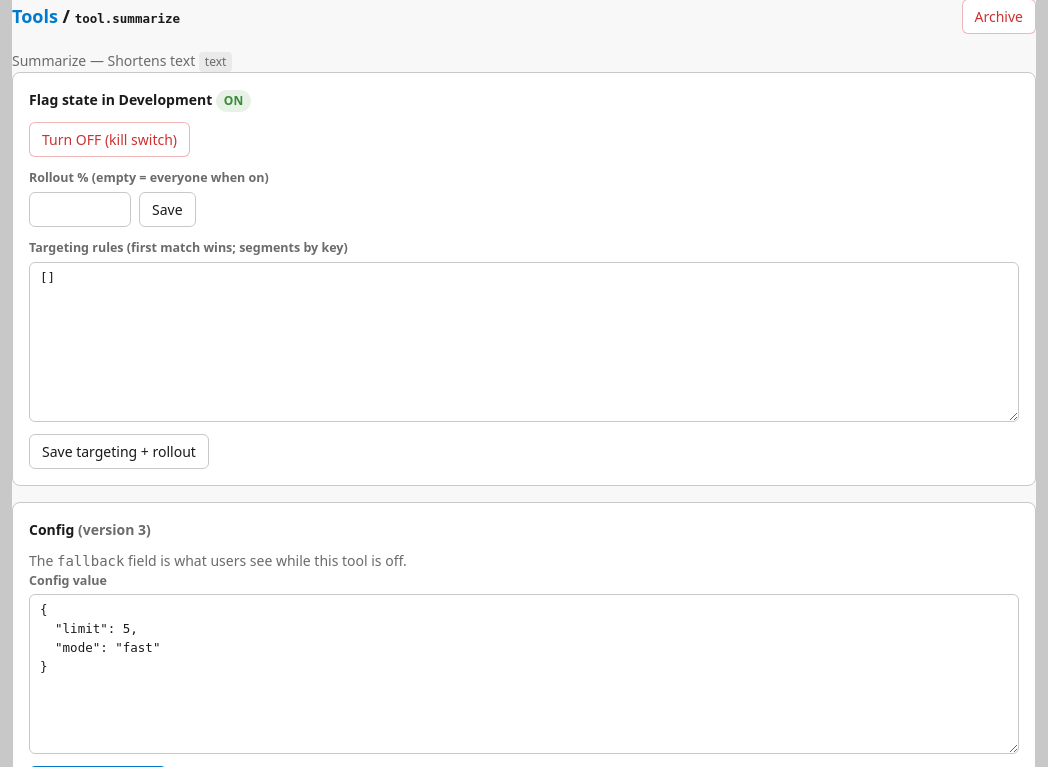
config panel › rejects a non-object config
Expected: the heading "Flag state in Development ON" is shown, [29,90,251,112]
Replace the text in the text box labelled "Config value" with "[1,2,3]" at [524, 674], box [29,594,1019,754]
(page scrolled)
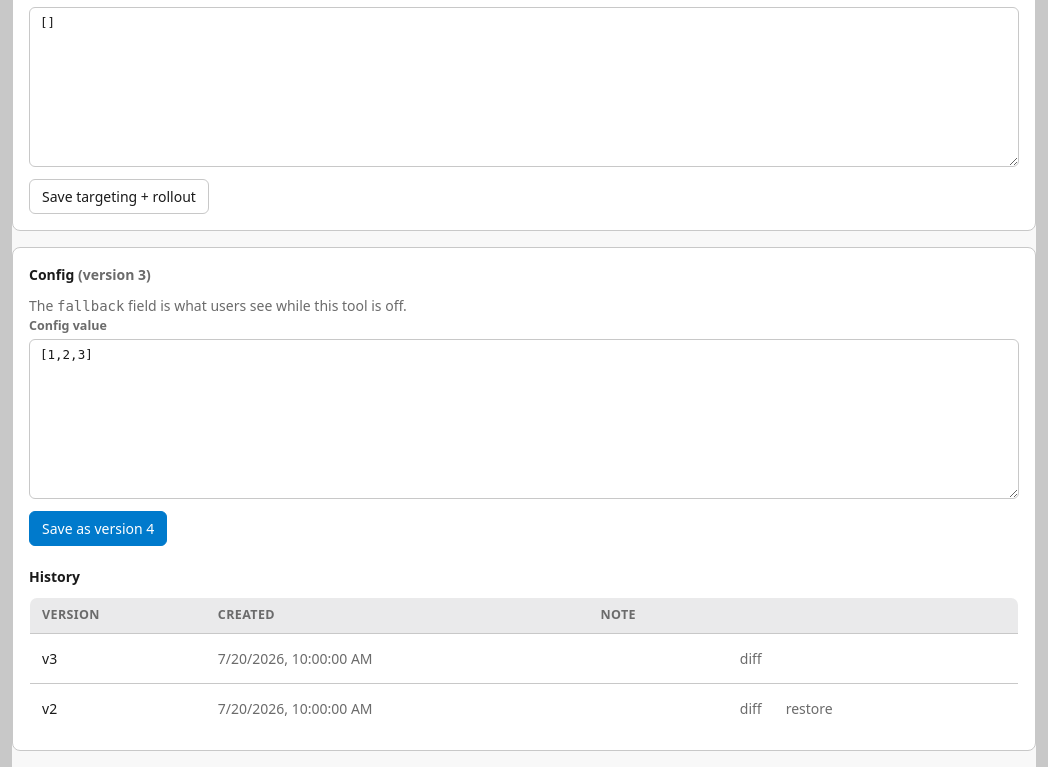
Click the button "Save as version 4" at [98, 529], box [29,511,167,546]
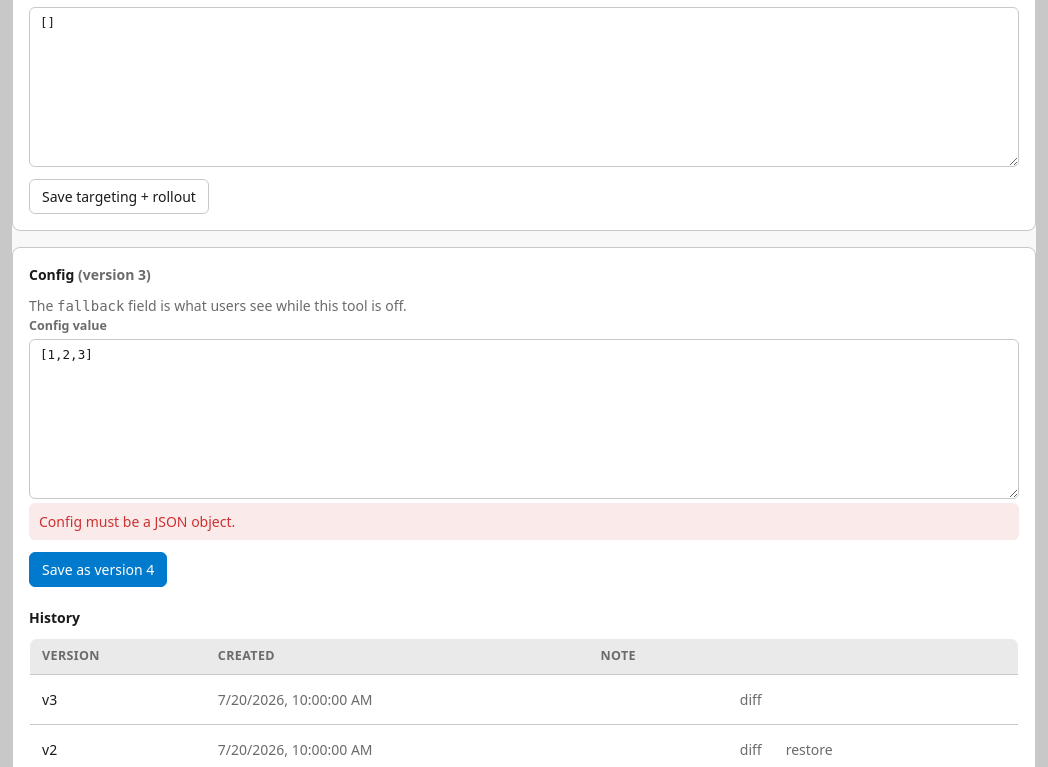
Expected: the text "Config must be a JSON object." is shown, [29,503,1019,540]
